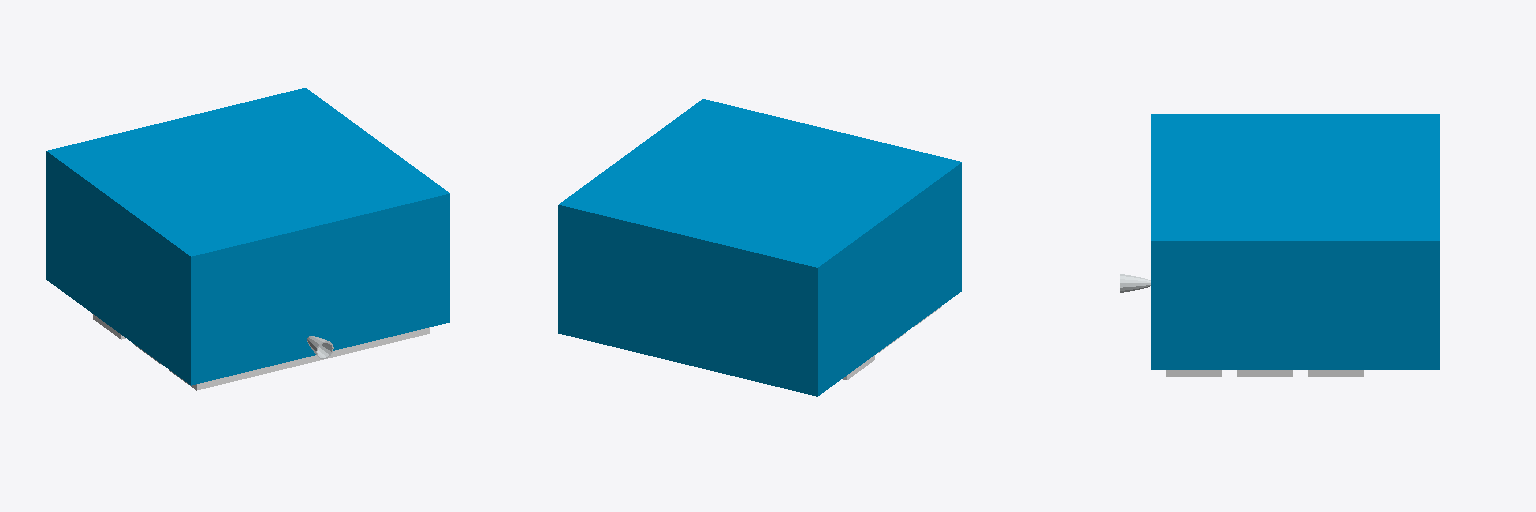
The model's file is tinker.obj.
3 renders of one model, left to right at view 1: azimuth 30°, elevation 25°; view 2: azimuth 150°, elevation 25°; view 3: azimuth 270°, elevation 25°, orthographic.
Visible parts, largest first — view 1: obj_0; view 2: obj_0; view 3: obj_0.
Boxes of the visible parts, x1,y1,x2,y2 form: obj_0: [46, 88, 449, 390]; obj_0: [558, 99, 961, 396]; obj_0: [1120, 114, 1439, 376].
Bounding box in the file's own units: 59 × 34 × 63.